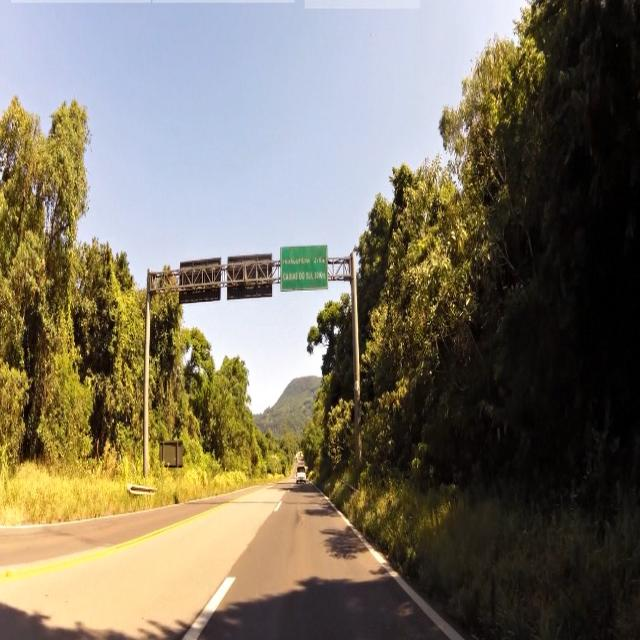I-4: (282, 249, 326, 288)
